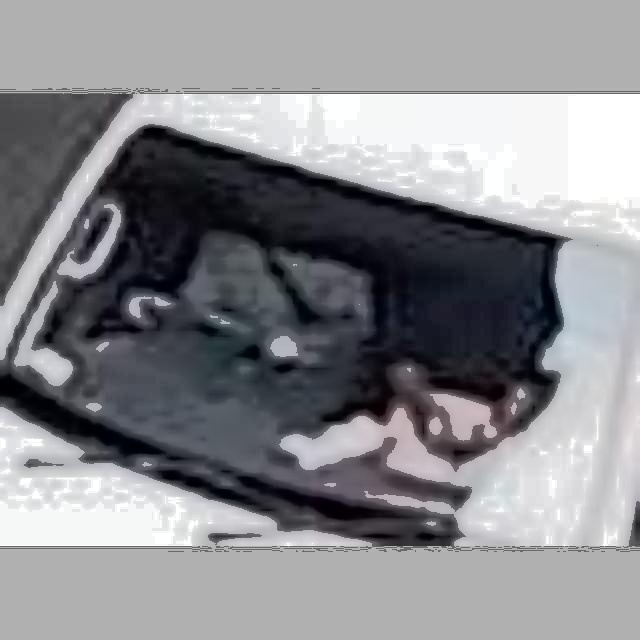pakai: (162, 191, 362, 378)
